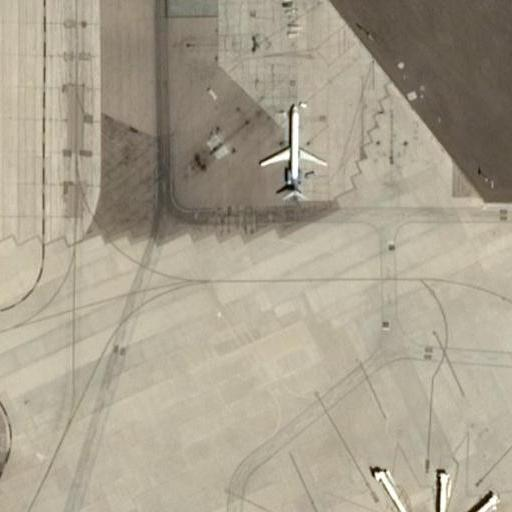Aircraft: (257, 103, 328, 204)
